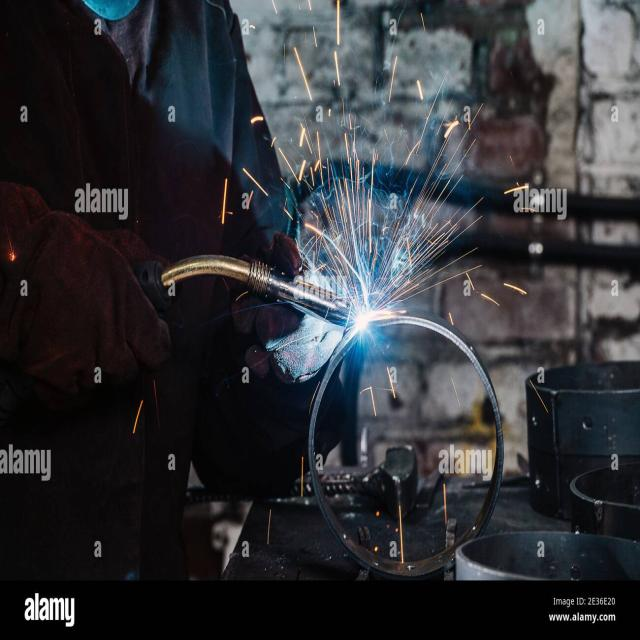welding: (352, 302, 374, 334)
